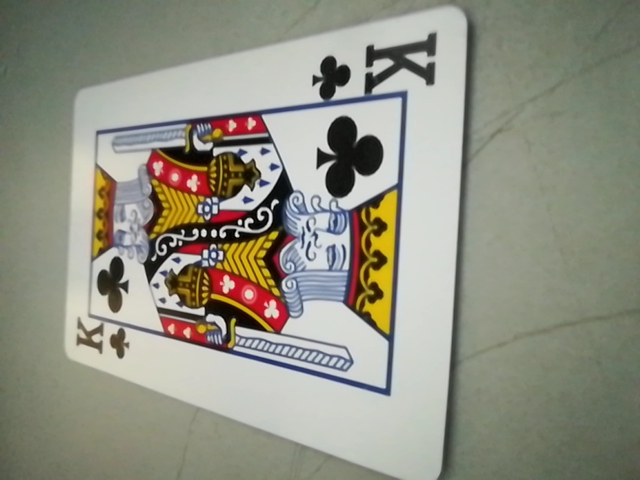mh k: (308, 29, 450, 105), (68, 314, 135, 363)
